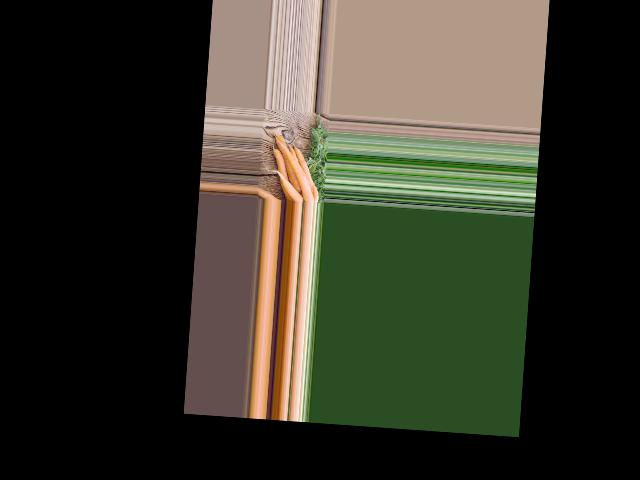carrot: (275, 172, 303, 200)
